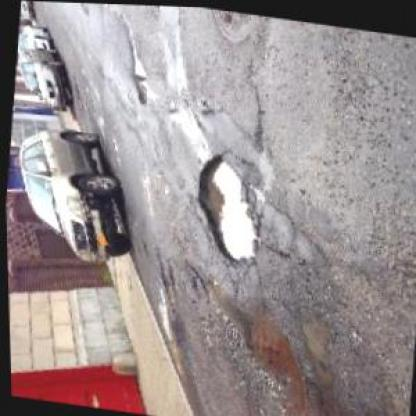pothole: (184, 146, 268, 262), (287, 305, 337, 386), (146, 247, 180, 312), (125, 53, 154, 104)
